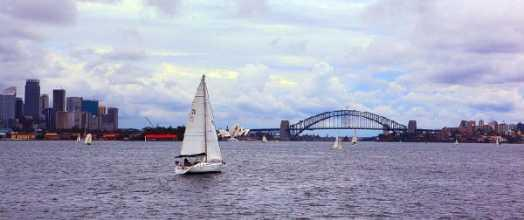fanchuan: (169, 68, 239, 177)
